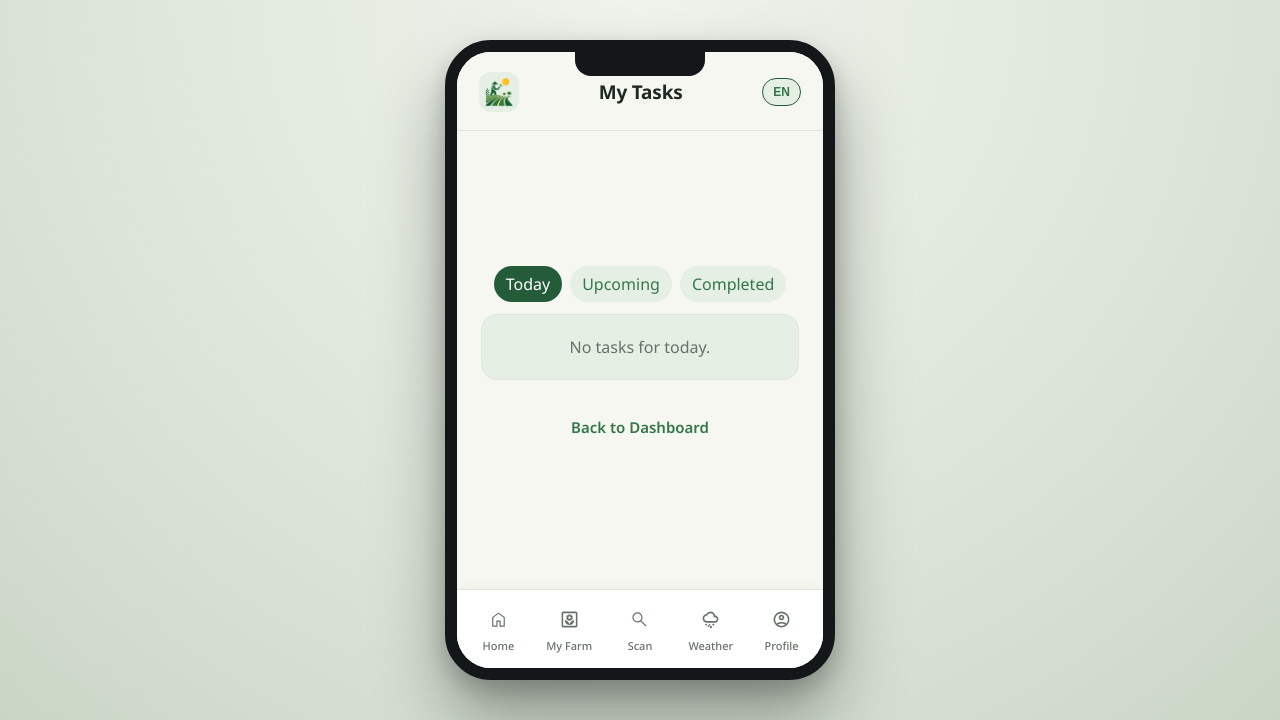
Test case: TasksPage › shows completed tasks with a visibly distinct checked/struck-through state
The width and height of the screenshot is (1280, 720).
Step 1. Click the button "Completed" → [733, 284], box top-left (680, 266), bottom-right (786, 302)
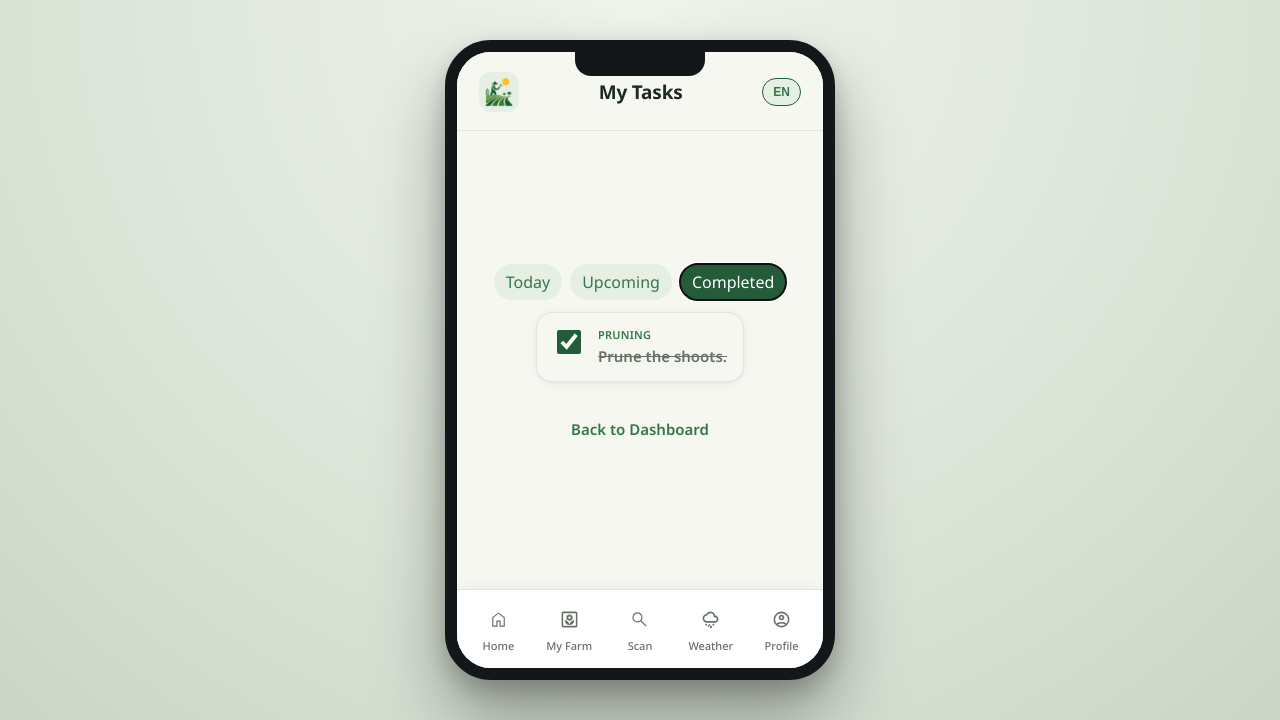
Now the checkbox labelled "Pruning Prune the shoots." is checked, box top-left (557, 330), bottom-right (581, 354)
